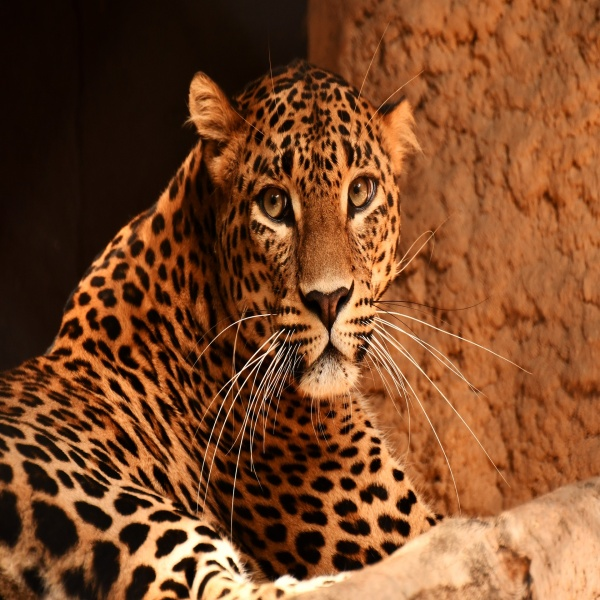Leopard: (1, 54, 450, 600)
